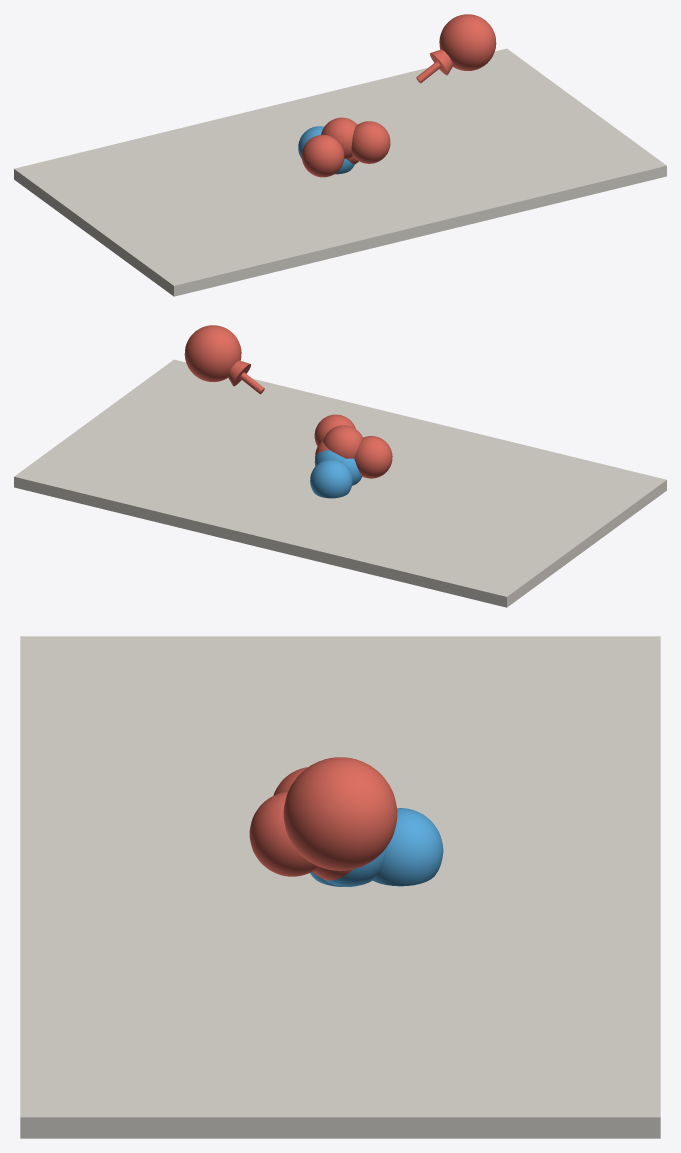
File: chem-atoms-proton.glb
3 renders of one model, top to bottom at view 1: azimuth 30°, elevation 25°; view 2: azimuth 150°, elevation 25°; view 3: azimuth 270°, elevation 25°, orthographic. The views are drawn at different scales.
Parts seen in each view (by area): view 1: concept-base, highlighted-positive-proton, proton-4, proton-2, proton-3; view 2: concept-base, highlighted-positive-proton, neutron-2, proton-4, proton-3, proton-2; view 3: concept-base, highlighted-positive-proton, neutron-2, proton-2, neutron-3.
Boxes of the visible parts, left/top/right/bottom form: concept-base: left=14, top=48, right=666, bottom=296; highlighted-positive-proton: left=439, top=14, right=496, bottom=70; proton-4: left=302, top=134, right=344, bottom=177; proton-2: left=351, top=121, right=390, bottom=163; proton-3: left=321, top=117, right=357, bottom=158; concept-base: left=14, top=359, right=666, bottom=607; highlighted-positive-proton: left=184, top=325, right=241, bottom=381; neutron-2: left=310, top=459, right=352, bottom=498; proton-4: left=354, top=436, right=392, bottom=478; proton-3: left=323, top=425, right=362, bottom=458; proton-2: left=314, top=414, right=355, bottom=446; concept-base: left=20, top=636, right=660, bottom=1138; highlighted-positive-proton: left=283, top=757, right=397, bottom=870; neutron-2: left=372, top=808, right=443, bottom=886; proton-2: left=249, top=791, right=318, bottom=876; neutron-3: left=324, top=846, right=387, bottom=886.
Size of what is drawn, in the model's own units: 2.4 by 0.605 by 1.35.
